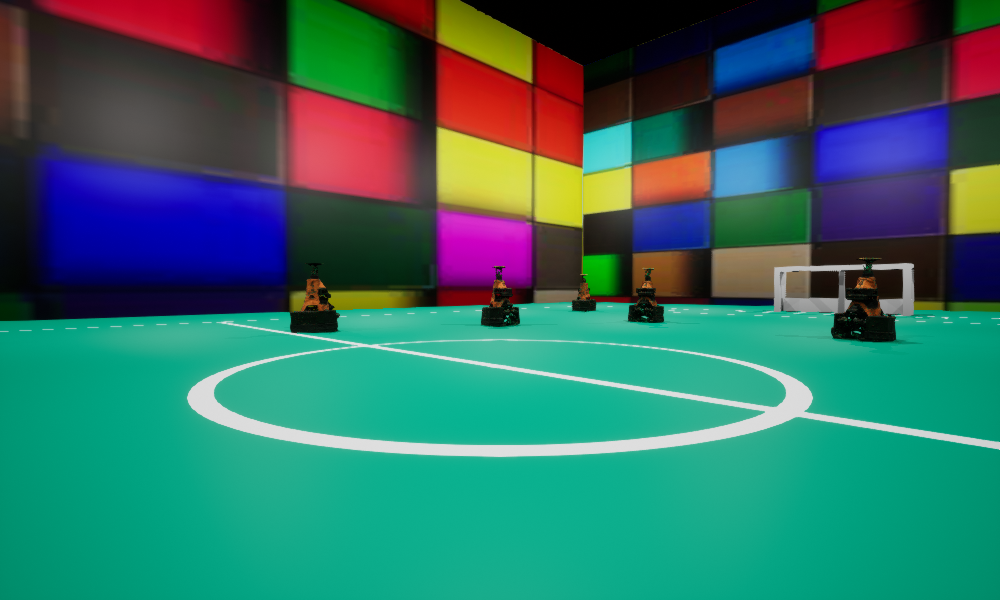o: (831, 258, 895, 341), (290, 263, 339, 332), (481, 266, 519, 326), (628, 268, 663, 321), (572, 274, 595, 311)
